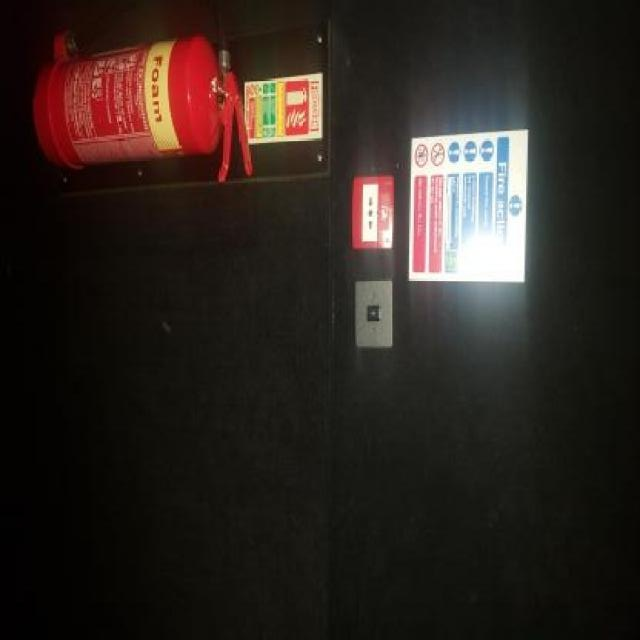fire extinguisher: (33, 0, 252, 182)
